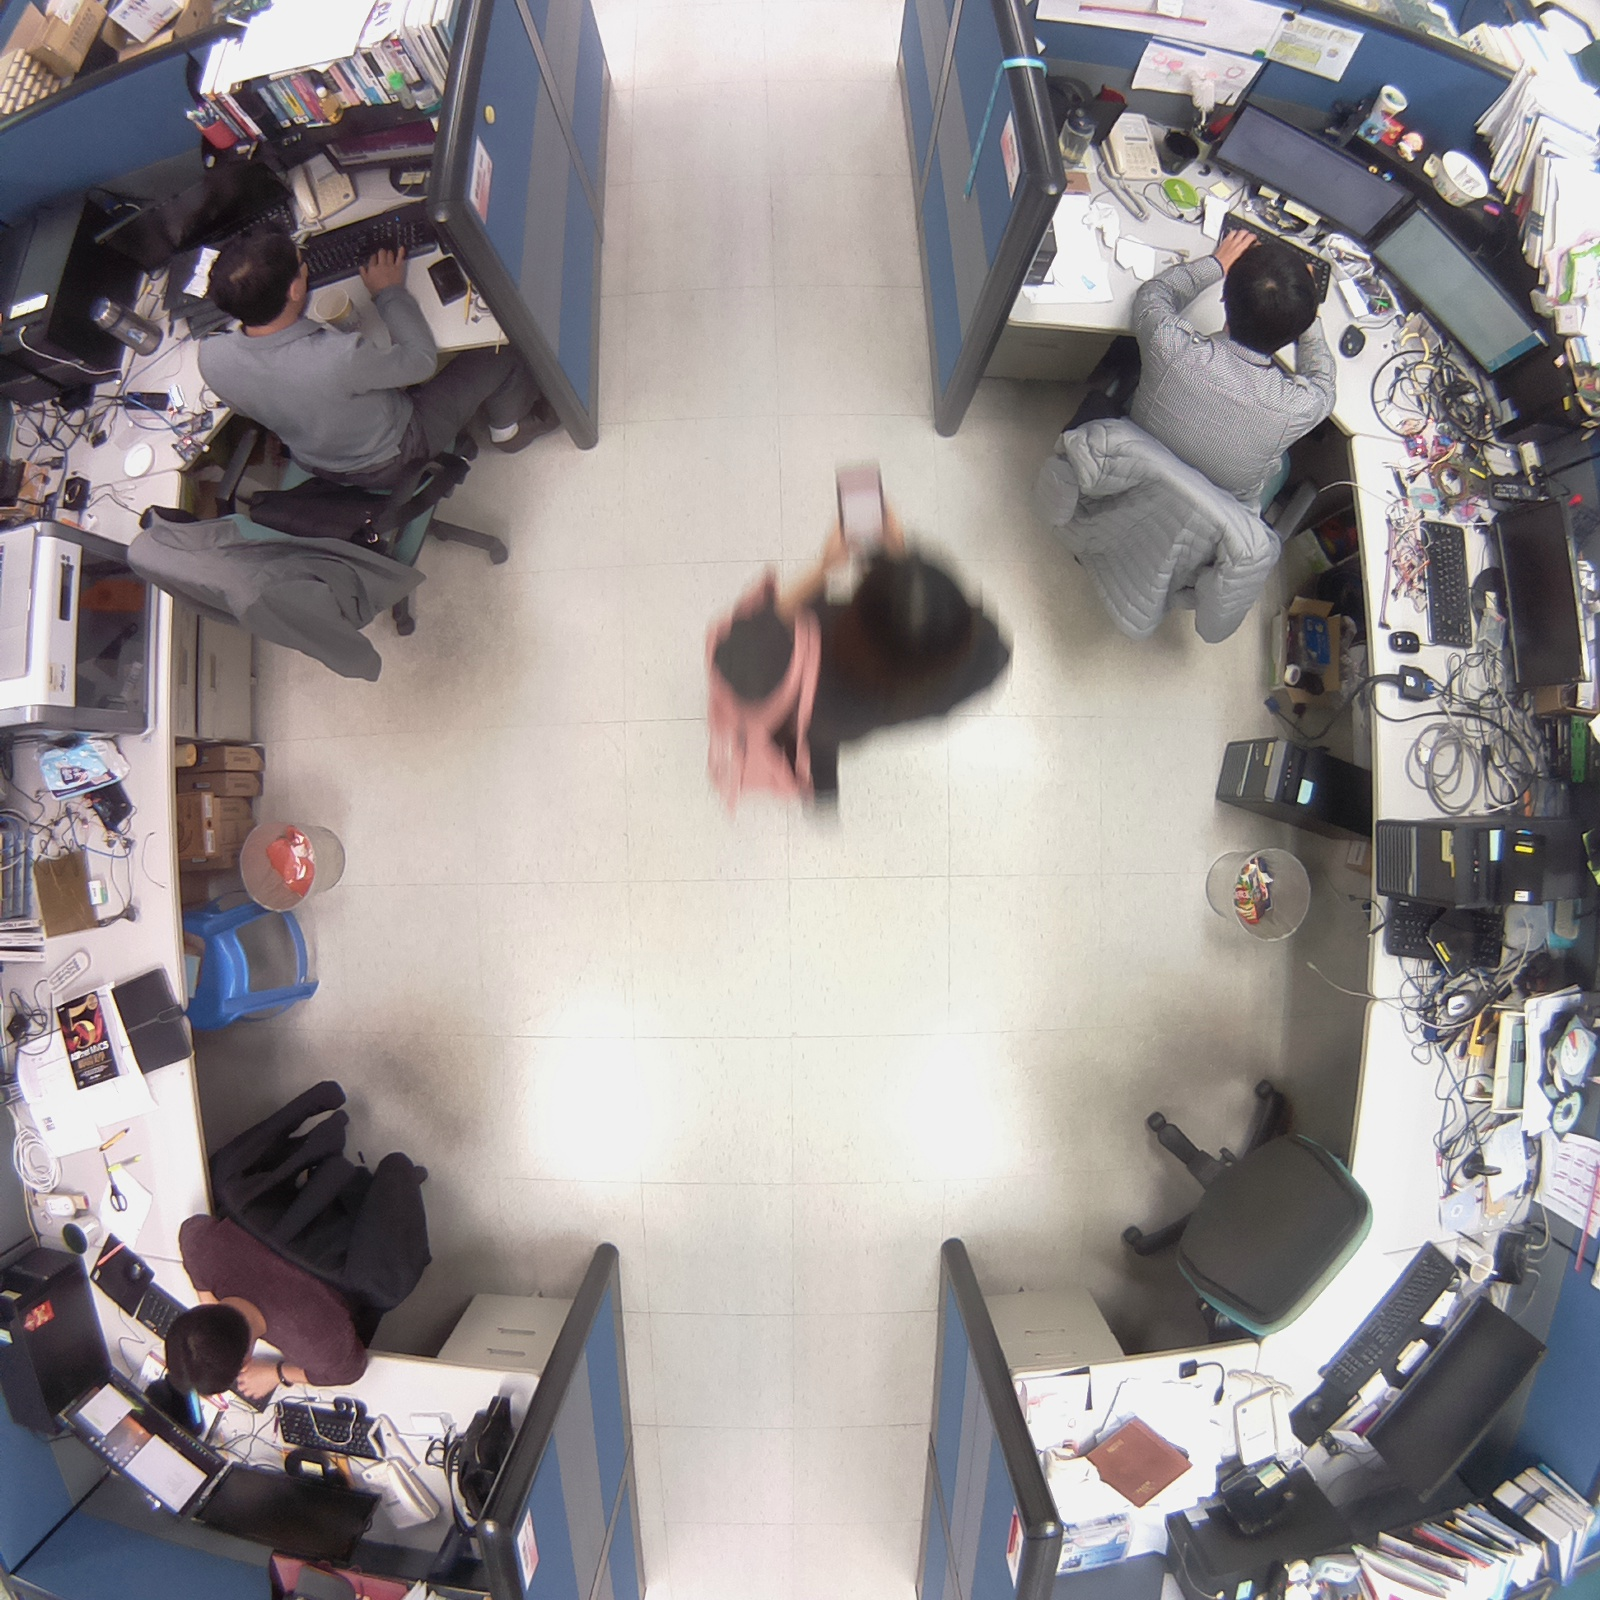chair: (1100, 1042, 1396, 1361)
sitting: (116, 193, 589, 700), (1005, 215, 1382, 670), (144, 1058, 470, 1426)
walking: (653, 447, 1027, 853)
